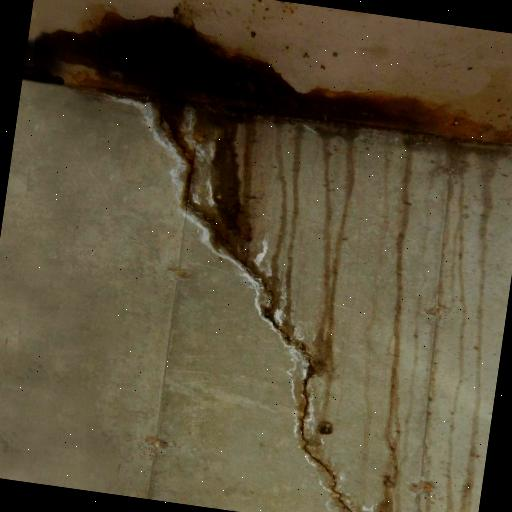spalling: (134, 105, 380, 512)
